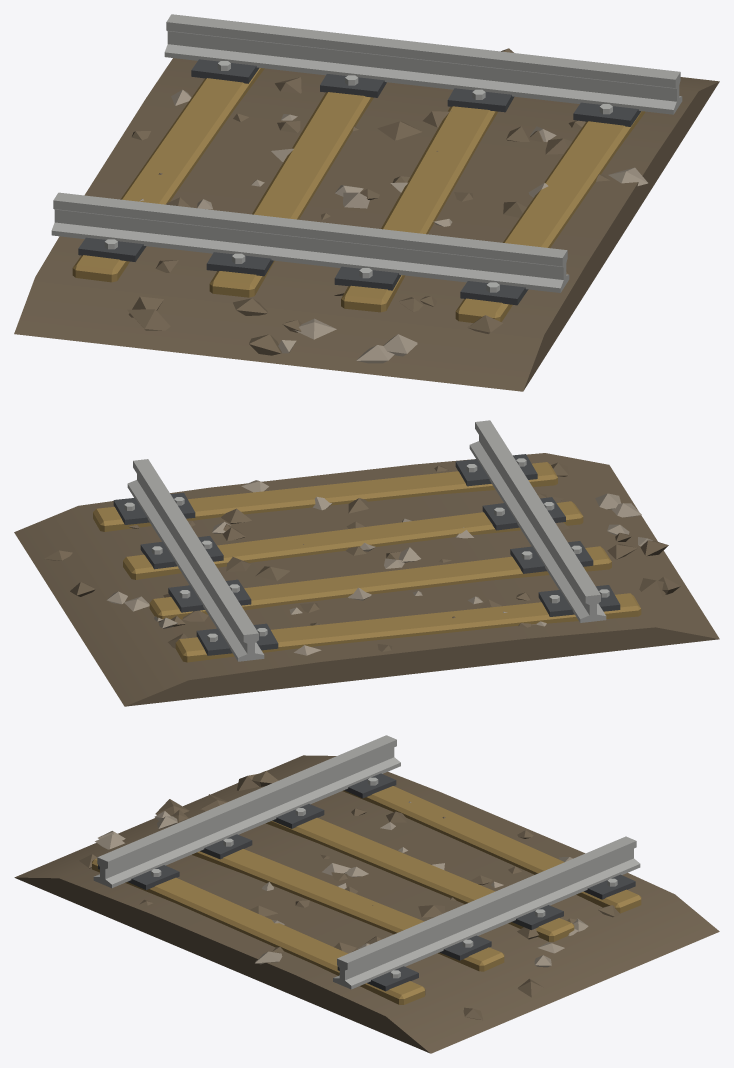
Rendered from legacy-straight-rail-ne.glb.
3 views of the same model, one above another, from view 1: azimuth 30°, elevation 25°; view 2: azimuth 150°, elevation 25°; view 3: azimuth 270°, elevation 25° (orthographic). The views are drawn at different scales.
Visible parts, largest first — view 1: body; view 2: body; view 3: body.
Part boxes in pixels (<box>): body: <box>14,14,719,391</box>; body: <box>14,420,719,706</box>; body: <box>14,735,719,1053</box>.
Size of the model in its own units: 2.44 by 0.2181 by 2.44.
